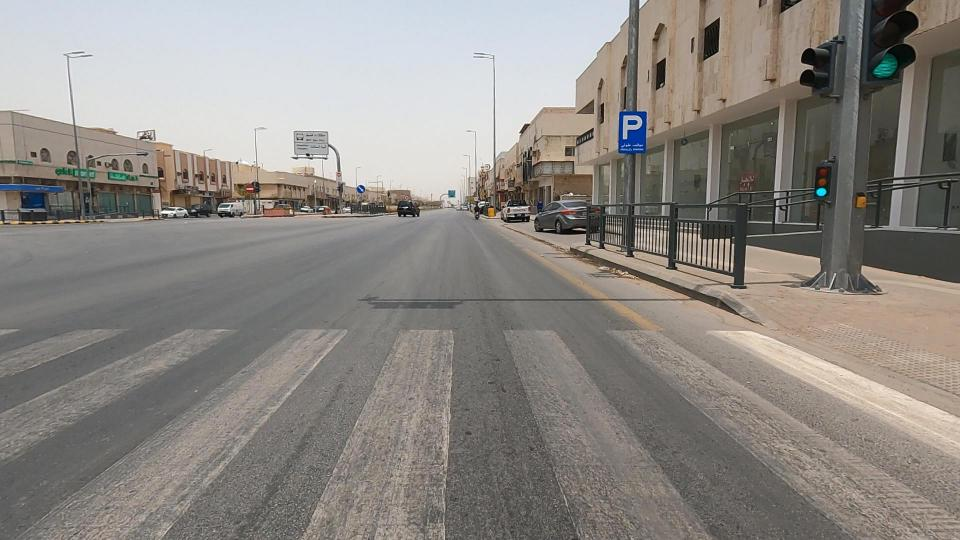BAD_BILLBOARD: (507, 140, 602, 197)
GARBAGE: (550, 181, 591, 203)
